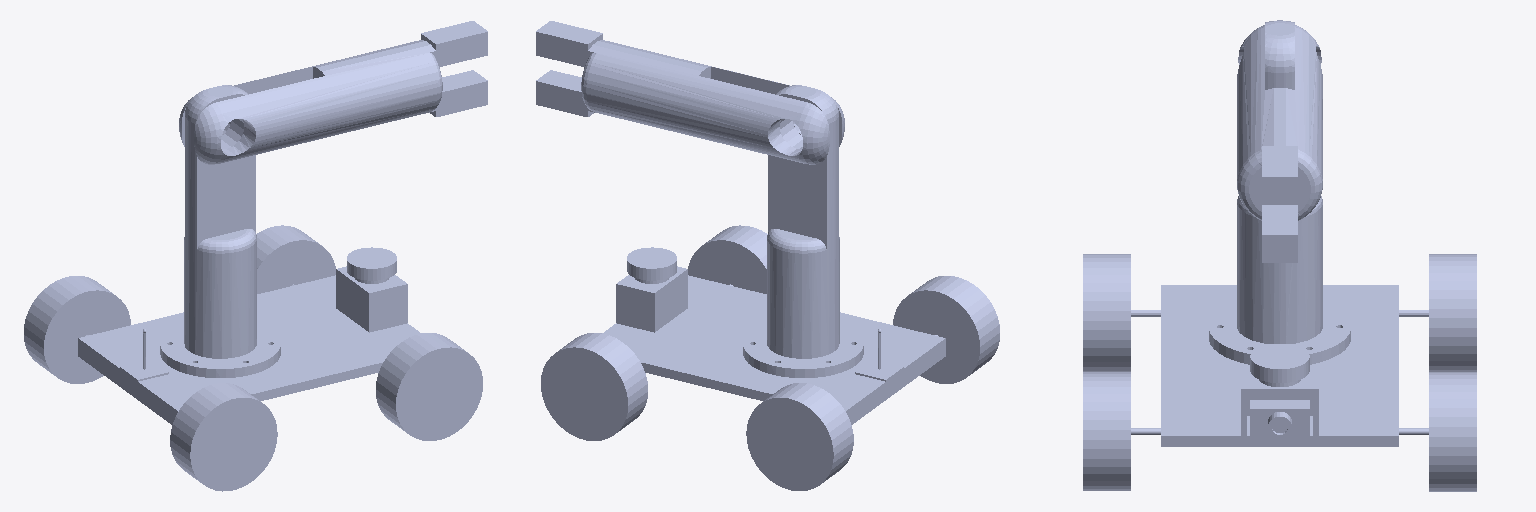
robot.urdf — xe_ros:
<?xml version="1.0"?>
<robot
  name="xe_ros">
  <link
    name="base_link">
    <inertial>
      <origin
        xyz="-0.041604759230865 2.91433543964104E-16 0.00953000268304519"
        rpy="0 0 0" />
      <mass
        value="10.0" />
      <inertia
        ixx="0.2"
        ixy="0"
        ixz="0"
        iyy="0.2"
        iyz="0"
        izz="0.2" />
    </inertial>
    <visual>
      <origin
        xyz="0 0 0"
        rpy="0 0 0" />
      <geometry>
        <mesh
          filename="package://xe_ros/meshes/base_link.STL" />
      </geometry>
      <material
        name="">
        <color
          rgba="0.792156862745098 0.819607843137255 0.933333333333333 1" />
      </material>
    </visual>
    <collision>
      <origin
        xyz="-0.025 0 0"
        rpy="0 0 0" />
      <geometry>
        <box size="0.3 0.2 0.02" />
      </geometry>
    </collision>
  </link>
  <link
    name="left_steer">
    <inertial>
      <origin
        xyz="2.7756E-17 0.0062173 -0.013579"
        rpy="0 0 0" />
      <mass value="0.1" />
      <inertia ixx="0.001" ixy="0.0" ixz="0.0" iyy="0.001" iyz="0.0" izz="0.001" />
    </inertial>
    <visual>
      <origin
        xyz="0 0 0"
        rpy="0 0 0" />
      <geometry>
        <mesh
          filename="package://xe_ros/meshes/left_steer.STL" />
      </geometry>
      <material
        name="">
        <color
          rgba="0.79216 0.81961 0.93333 1" />
      </material>
    </visual>
    
  </link>
  <joint
    name="ackermann_left"
    type="revolute">
    <origin
      xyz="0.084858 0.095 0.01"
      rpy="0 0 0" />
    <parent
      link="base_link" />
    <child
      link="left_steer" />
    <axis
      xyz="0 0 1" />
    <limit
      lower="-0.6"
      upper="0.6"
      effort="100"
      velocity="10" />
    <dynamics
      damping="0.5"
      friction="0.2" />
  </joint>
  <link
    name="front_left_wheel">
    <inertial>
      <origin
        xyz="0 2.7756E-17 2.7756E-17"
        rpy="0 0 0" />
      <mass
        value="2.31416" />
      <inertia
        ixx="0.02"
        ixy="0"
        ixz="0"
        iyy="0.02"
        iyz="0"
        izz="0.02" />
    </inertial>
    <visual>
      <origin
        xyz="0 0 0"
        rpy="0 0 0" />
      <geometry>
        <mesh
          filename="package://xe_ros/meshes/front_left_wheel.STL" />
      </geometry>
      <material
        name="">
        <color
          rgba="0.79216 0.81961 0.93333 1" />
      </material>
    </visual>
    <collision>
      <origin
        xyz="0 0 0"
        rpy="1.5078 0 0" />
      <geometry>
        <cylinder radius="0.05" length="0.02" /> 
      </geometry>
    </collision>
  </link>
  <joint
    name="front_left"
    type="continuous">
    <origin
      xyz="0 0.05 -0.0150000000000002"
      rpy="0 0 0" />
    <parent
      link="left_steer" />
    <child
      link="front_left_wheel" />
    <axis
      xyz="0 1 0" />
    <limit
      effort="100"
      velocity="50" />
    <dynamics
      damping="0.01"
      friction="0.01" />
  </joint>
  <link
    name="right_steer">
    <inertial>
      <origin
        xyz="-1.3878E-17 -0.0062173 -0.013579"
        rpy="0 0 0" />
      <mass value="0.1" />
      <inertia ixx="0.001" ixy="0.0" ixz="0.0" iyy="0.001" iyz="0.0" izz="0.001" />
    </inertial>
    <visual>
      <origin
        xyz="0 0 0"
        rpy="0 0 0" />
      <geometry>
        <mesh
          filename="package://xe_ros/meshes/right_steer.STL" />
      </geometry>
      <material
        name="">
        <color
          rgba="0.79216 0.81961 0.93333 1" />
      </material>
    </visual>
    
  </link>
  <joint
    name="ackermann_right"
    type="revolute">
    <origin
      xyz="0.0848579858738173 -0.0950000000000006 0.0100000000000003"
      rpy="0 0 0" />
    <parent
      link="base_link" />
    <child
      link="right_steer" />
    <axis
      xyz="0 0 1" />
    <limit
      lower="-0.6"
      upper="0.6"
      effort="100"
      velocity="10" />
    <dynamics
      damping="0.5"
      friction="0.2" />
  </joint>
  <link
    name="front_right_wheel">
    <inertial>
      <origin
        xyz="1.3878E-17 1.3878E-17 -1.3878E-17"
        rpy="0 0 0" />
      <mass
        value="2.31416" />
      <inertia
        ixx="0.02"
        ixy="0"
        ixz="0"
        iyy="0.02"
        iyz="0"
        izz="0.02" />
    </inertial>
    <visual>
      <origin xyz="0 0 0" rpy="0 0 0" />
      <geometry>
        <mesh
          filename="package://xe_ros/meshes/front_right_wheel.STL" /> 
      </geometry>
      <material
        name="">
        <color
          rgba="0.79216 0.81961 0.93333 1" />
      </material>
    </visual>
    <collision>
      <origin xyz="0 0 0" rpy="1.5708 0 0" />
      <geometry>
        <cylinder radius="0.05" length="0.02" /> 
      </geometry>
    </collision>
  </link>
  <joint
    name="front_right"
    type="continuous">
    <origin
      xyz="0 -0.05 -0.015"
      rpy="0 0 0" />
    <parent
      link="right_steer" />
    <child
      link="front_right_wheel" />
    <axis
      xyz="0 1 0" />
    <limit
      effort="100"
      velocity="50" />
    <dynamics
      damping="0.005"
      friction="0.005" />
  </joint>
  <link
    name="rear_left_wheel">
    <inertial>
      <origin
        xyz="-2.7756E-17 2.7756E-17 2.7756E-17"
        rpy="0 0 0" />
      <mass
        value="2.31416" />
      <inertia
        ixx="0.02"
        ixy="0"
        ixz="0"
        iyy="0.02"
        iyz="0"
        izz="0.02" />
    </inertial>
    <visual>
      <origin
        xyz="0 0 0"
        rpy="0 0 0" />
      <geometry>
        <mesh
          filename="package://xe_ros/meshes/rear_left_wheel.STL" />
      </geometry>
      <material
        name="">
        <color
          rgba="0.79216 0.81961 0.93333 1" />
      </material>
    </visual>
    <collision>
      <origin xyz="0 0 0" rpy="1.5708 0 0" />
      <geometry>
        <cylinder radius="0.05" length="0.02" /> 
      </geometry>
    </collision>
  </link>
  <joint
    name="rear_left"
    type="continuous">
    <origin
      xyz="-0.150142014126181 0.145000000000001 -0.00500000000000055"
      rpy="0 0 0" />
    <parent
      link="base_link" />
    <child
      link="rear_left_wheel" />
    <axis
      xyz="0 1 0" />
    <limit
      effort="100"
      velocity="50" />
    <dynamics
      damping="0.5"
      friction="0.5" />
  </joint>
  <link
    name="rear_right_wheel">
    <inertial>
      <origin
        xyz="-2.7756E-17 2.7756E-17 0"
        rpy="0 0 0" />
      <mass
        value="2.31416" />
      <inertia
        ixx="0.02"
        ixy="0"
        ixz="0"
        iyy="0.02"
        iyz="0"
        izz="0.02" />
    </inertial>
    <visual>
      <origin
        xyz="0 0 0"
        rpy="0 0 0" />
      <geometry>
        <mesh
          filename="package://xe_ros/meshes/rear_right_wheel.STL" />
      </geometry>
      <material
        name="">
        <color
          rgba="0.79216 0.81961 0.93333 1" />
      </material>
    </visual>
    <collision>
      <origin xyz="0 0 0" rpy="1.5708 0 0" />
      <geometry>
        <cylinder radius="0.05" length="0.02" />  
      </geometry>
    </collision>
  </link>
  <joint
    name="rear_right"
    type="continuous">
    <origin
      xyz="-0.15014 -0.145 -0.005"
      rpy="0 0 0" />
    <parent
      link="base_link" />
    <child
      link="rear_right_wheel" />
    <axis
      xyz="0 1 0" />
    <limit
      effort="100"
      velocity="50" />
    <dynamics
      damping="0.5"
      friction="0.5" />
  </joint>

  <gazebo reference="front_left_wheel">
    <mu1>1.9</mu1>
    <mu2>0.5</mu2>
    <kp>100000.0</kp> <kd>100.0</kd>  <material>Gazebo/Black</material>
  </gazebo>

  <gazebo reference="front_right_wheel">
    <mu1>1.9</mu1>
    <mu2>0.5</mu2>
    <kp>100000.0</kp>
    <kd>100.0</kd>
    <material>Gazebo/Black</material>
  </gazebo>

  <gazebo reference="rear_left_wheel">
    <mu1>3.0</mu1>
    <mu2>3.0</mu2>
    <kp>100000.0</kp>
    <kd>100.0</kd>
    <minDepth>0.001</minDepth>
    <material>Gazebo/Black</material>
  </gazebo>

  <gazebo reference="rear_right_wheel">
    <mu1>3.0</mu1>
    <mu2>3.0</mu2>
    <kp>100000.0</kp>
    <kd>100.0</kd>
    <minDepth>0.001</minDepth>
    <material>Gazebo/Black</material>
  </gazebo>

  <link
    name="camera">
    <inertial>
      <origin
        xyz="-1.1796E-16 0.0023818 -0.026941"
        rpy="0 0 0" />
      <mass
        value="0.05668" />
      <inertia
        ixx="1.1271E-05"
        ixy="-4.9371E-20"
        ixz="1.4804E-20"
        iyy="1.8455E-05"
        iyz="1.4295E-07"
        izz="1.5462E-05" />
    </inertial>
    <visual>
      <origin
        xyz="0 0 0"
        rpy="-1.5707963267949 0 -1.5707963267949" />
      <geometry>
        <mesh
          filename="package://xe_ros/meshes/camera.STL" />
      </geometry>
      <material
        name="">
        <color
          rgba="0.79216 0.81961 0.93333 1" />
      </material>
    </visual>
  </link>
  <joint
    name="cam_mount"
    type="fixed">
    <origin
      xyz="0.134857985873818 0 0.0225"
      rpy="0 0 0" />
    <parent
      link="base_link" />
    <child
      link="camera" />
    <axis
      xyz="0 0 0" />
  </joint>
  <link
    name="lidar">
    <inertial>
      <origin
        xyz="8.3267E-17 3.4694E-17 -0.010546"
        rpy="0 0 0" />
      <mass
        value="0.03774" />
      <inertia
        ixx="6.7746E-06"
        ixy="7.918E-35"
        ixz="-2.2212E-20"
        iyy="6.7746E-06"
        iyz="-1.1345E-20"
        izz="9.9555E-06" />
    </inertial>
    <visual>
      <origin
        xyz="0 0 0"
        rpy="0 0 0" />
      <geometry>
        <mesh
          filename="package://xe_ros/meshes/lidar.STL" />
      </geometry>
      <material
        name="">
        <color
          rgba="0.79216 0.81961 0.93333 1" />
      </material>
    </visual>
    <collision>
      <origin
        xyz="0 0 0"
        rpy="0 0 0" />
      <geometry>
        <mesh
          filename="package://xe_ros/meshes/lidar.STL" />
      </geometry>
    </collision>
  </link>
  <joint
    name="lidar_mount"
    type="fixed">
    <origin
      xyz="0.102857985873818 0 0.073"
      rpy="0 0 0" />
    <parent
      link="base_link" />
    <child
      link="lidar" />
    <axis
      xyz="0 0 0" />
  </joint>
  <link
    name="gps">
    <inertial>
      <origin
        xyz="3.33066907387547E-16 1.52655665885959E-16 -0.0450109181620072"
        rpy="0 0 0" />
      <mass
        value="0.00923199566912878" />
      <inertia
        ixx="1.17192870008943E-06"
        ixy="2.40125957628312E-22"
        ixz="-4.84511820779604E-21"
        iyy="1.17192870008943E-06"
        iyz="-2.77959803157542E-21"
        izz="1.9596689993416E-06" />
    </inertial>
    <visual>
      <origin
        xyz="0 0 0"
        rpy="0 0 0" />
      <geometry>
        <mesh
          filename="package://xe_ros/meshes/gps.STL" />
      </geometry>
      <material
        name="">
        <color
          rgba="0.792156862745098 0.819607843137255 0.933333333333333 1" />
      </material>
    </visual>
    <collision>
      <origin
        xyz="0 0 0"
        rpy="0 0 0" />
      <geometry>
        <mesh
          filename="package://xe_ros/meshes/gps.STL" />
      </geometry>
    </collision>
  </link>
  <joint
    name="gps_mount"
    type="fixed">
    <origin
      xyz="-0.15714 0 0.054"
      rpy="0 0 0" />
    <parent
      link="base_link" />
    <child
      link="gps" />
    <axis
      xyz="0 0 0" />
  </joint>\

  <link
    name="link1">
    <inertial>
      <origin
        xyz="-2.9845E-09 -2.0519E-09 0.10991"
        rpy="0 0 0" />
      <mass
        value="0.66958" />
      <inertia
        ixx="0.0034787"
        ixy="-5.081E-10"
        ixz="3.5555E-10"
        iyy="0.0035693"
        iyz="1.9934E-10"
        izz="0.00042586" />
    </inertial>
    <visual>
      <origin
        xyz="0 0 0"
        rpy="0 0 0" />
      <geometry>
        <mesh
          filename="package://xe_ros/meshes/link1.STL" />
      </geometry>
      <material
        name="">
        <color
          rgba="0.79216 0.81961 0.93333 1" />
      </material>
    </visual>
  </link>
  <joint
    name="bot_rotate"
    type="continuous">
    <origin
      xyz="-0.070142 0 0.02"
      rpy="0 0 0" />
    <parent
      link="base_link" />
    <child
      link="link1" />
    <axis
      xyz="0 0 1" />
    <limit
      effort="10"
      velocity="5" />
    <dynamics
      damping="1.5"
      friction="1.5" />
  </joint>
  <link
    name="link2">
    <inertial>
      <origin
        xyz="0.14562 6.5632E-09 1.18E-09"
        rpy="0 0 0" />
      <mass
        value="0.87156" />
      <inertia
        ixx="0.00062215"
        ixy="-3.4544E-10"
        ixz="1.3052E-09"
        iyy="0.005736"
        iyz="2.3752E-10"
        izz="0.0057412" />
    </inertial>
    <visual>
      <origin
        xyz="0 0 0"
        rpy="0 0 0" />
      <geometry>
        <mesh
          filename="package://xe_ros/meshes/link2.STL" />
      </geometry>
      <material
        name="">
        <color
          rgba="0.79216 0.81961 0.93333 1" />
      </material>
    </visual>
  </link>
  <joint
    name="arm_joint"
    type="continuous">
    <origin
      xyz="0 0 0.2375"
      rpy="-1.5708 0 0" />
    <parent
      link="link1" />
    <child
      link="link2" />
    <axis
      xyz="0 0 1" />
    <limit
      lower="-1.5"
      upper="1.5"
      effort="10"
      velocity="5" />
    <dynamics
      damping="2"
      friction="2" />
  </joint>

  <gazebo>
    <plugin name="gazebo_ros_ackermann_drive" filename="libgazebo_ros_ackermann_drive.so">
      <ros>
        <namespace>/</namespace>
        <remapping>cmd_vel:=cmd_vel</remapping>
        <remapping>odom:=odom</remapping>
      </ros>

      <update_rate>50.0</update_rate>

      <front_left_joint>front_left</front_left_joint>
      <front_right_joint>front_right</front_right_joint>
      <rear_left_joint>rear_left</rear_left_joint>
      <rear_right_joint>rear_right</rear_right_joint>

      <left_steering_joint>ackermann_left</left_steering_joint>
      <right_steering_joint>ackermann_right</right_steering_joint>

      <wheel_separation>0.4</wheel_separation> <wheel_base>0.5</wheel_base>             
      <wheel_radius>0.05</wheel_radius>         
      <max_steer>0.6</max_steer> 
      <max_speed>2.0</max_speed> 
      <left_steering_pid_gain>100 5 2</left_steering_pid_gain>
      <right_steering_pid_gain>100 5 2</right_steering_pid_gain>
      <linear_velocity_pid_gain>100 5 2</linear_velocity_pid_gain>

      <publish_odom>true</publish_odom>
      <publish_odom_tf>true</publish_odom_tf>
      <publish_wheel_tf>false</publish_wheel_tf>
      <odometry_frame>odom</odometry_frame>
      <robot_base_frame>base_footprint</robot_base_frame>
    </plugin>
  </gazebo>

  <ros2_control name="ArmSystem" type="system">
  <hardware>
    <plugin>gazebo_ros2_control/GazeboSystem</plugin>
  </hardware>
  <joint name="bot_rotate">
    <command_interface name="position"/>
    <state_interface name="position"/>
    <state_interface name="velocity"/>
  </joint>
  <joint name="arm_joint">
    <command_interface name="position"/>
    <state_interface name="position"/>
    <state_interface name="velocity"/>
  </joint>
  </ros2_control>

  <gazebo>
    <plugin filename="libgazebo_ros2_control.so" name="gazebo_ros2_control">
      <robot_param>robot_description</robot_param>
      <robot_param_node>robot_state_publisher</robot_param_node>
      <parameters>/root/humble_ws/src/xe_ros/config/arm_controller.yaml</parameters>
    </plugin>
  </gazebo>

  <gazebo reference="lidar">
    <sensor name="lidar_sensor" type="ray">
      <always_on>true</always_on>
      <visualize>true</visualize> <pose>0 0 0 0 0 0</pose>
      <update_rate>10.0</update_rate>
      <ray>
        <scan>
          <horizontal>
            <samples>360</samples>
            <resolution>1.0</resolution>
            <min_angle>-3.14159</min_angle> <max_angle>3.14159</max_angle>  </horizontal>
        </scan>
        <range>
          <min>0.12</min> <max>12.0</max> <resolution>0.015</resolution>
        </range>
      </ray>
      <plugin name="gazebo_ros_lidar_controller" filename="libgazebo_ros_ray_sensor.so">
        <ros>
          <remapping>~/out:=scan</remapping> </ros>
        <output_type>sensor_msgs/LaserScan</output_type>
        <frame_name>lidar</frame_name>
      </plugin>
    </sensor>
</gazebo>
<gazebo reference="camera">
  <sensor name="camera_sensor" type="camera">
    <pose>0 0 0 0 0 -1.5708</pose>
    <visualize>true</visualize>
    <update_rate>30.0</update_rate> <camera>
      <horizontal_fov>1.089</horizontal_fov> <image>
        <format>R8G8B8</format>
        <width>640</width>
        <height>480</height>
      </image>
      <clip>
        <near>0.05</near>
        <far>8.0</far>
      </clip>
    </camera>
    <plugin name="gazebo_ros_camera_controller" filename="libgazebo_ros_camera.so">
      <ros>
        <namespace>camera</namespace>
        <remapping>~/image_raw:=image_raw</remapping>
        <remapping>~/camera_info:=camera_info</remapping>
      </ros>
      <camera_name>cam</camera_name>
      <frame_name>camera</frame_name>
    </plugin>
  </sensor>
</gazebo>
<gazebo reference="gps">
  <sensor name="gps_sensor" type="gps">
    <always_on>true</always_on>
    <update_rate>10.0</update_rate>
    <plugin name="gazebo_ros_gps_controller" filename="libgazebo_ros_gps_sensor.so">
      <ros>
        <remapping>~/out:=gps/fix</remapping> </ros>
      <frame_name>gps</frame_name>
    </plugin>
  </sensor>
</gazebo>

<gazebo>
  <plugin name="gazebo_ros_joint_state_publisher" filename="libgazebo_ros_joint_state_publisher.so">
    <ros>
      <namespace>/</namespace>
      <remapping>~/out:=joint_states</remapping>
    </ros>
    <update_rate>30</update_rate>
    <joint_name>ackermann_left</joint_name>
    <joint_name>ackermann_right</joint_name>
    <joint_name>rear_left</joint_name>
    <joint_name>rear_right</joint_name>
    <joint_name>front_left</joint_name>
    <joint_name>front_right</joint_name>
  </plugin>
</gazebo>

</robot>

--- Render facts (derived) ---
The picture shows the robot from 3 angles, left to right: view 1: azimuth 30°, elevation 25°; view 2: azimuth 150°, elevation 25°; view 3: azimuth 270°, elevation 25°; orthographic projection.
Robot: xe_ros — 12 links, 11 joints (2 revolute, 6 continuous, 3 fixed); root link base_link; default pose: all joints at 0.
Links seen in each view (by area): view 1: base_link, link2, link1, front_right_wheel, rear_right_wheel, rear_left_wheel, front_left_wheel, lidar, gps; view 2: base_link, link2, link1, front_left_wheel, rear_left_wheel, rear_right_wheel, front_right_wheel, lidar, gps; view 3: base_link, link2, link1, front_left_wheel, front_right_wheel, rear_left_wheel, rear_right_wheel, camera, lidar.
Link boxes in pixels (bbox=[...]): base_link: bbox=[78, 266, 421, 424]; link2: bbox=[179, 21, 487, 164]; link1: bbox=[184, 85, 256, 358]; front_right_wheel: bbox=[376, 333, 482, 440]; rear_right_wheel: bbox=[170, 383, 277, 491]; rear_left_wheel: bbox=[24, 276, 130, 383]; front_left_wheel: bbox=[256, 225, 335, 293]; lidar: bbox=[347, 247, 396, 283]; gps: bbox=[120, 329, 168, 385]; base_link: bbox=[603, 266, 945, 424]; link2: bbox=[536, 21, 844, 164]; link1: bbox=[767, 85, 839, 358]; front_left_wheel: bbox=[541, 333, 647, 440]; rear_left_wheel: bbox=[746, 383, 853, 490]; rear_right_wheel: bbox=[893, 276, 999, 383]; front_right_wheel: bbox=[688, 225, 767, 293]; lidar: bbox=[627, 247, 676, 283]; gps: bbox=[855, 329, 903, 385]; base_link: bbox=[1131, 285, 1428, 446]; link2: bbox=[1237, 25, 1322, 262]; link1: bbox=[1237, 20, 1322, 343]; front_left_wheel: bbox=[1429, 372, 1476, 491]; front_right_wheel: bbox=[1083, 372, 1130, 490]; rear_left_wheel: bbox=[1429, 254, 1476, 371]; rear_right_wheel: bbox=[1083, 254, 1130, 371]; camera: bbox=[1250, 400, 1309, 440]; lidar: bbox=[1250, 344, 1309, 386].
Size in the robot's own frame: 0.4275 by 0.33 by 0.3524 metres.
Meshes: 12 distinct files referenced, 12 mesh visuals loaded (12 binary STL).
